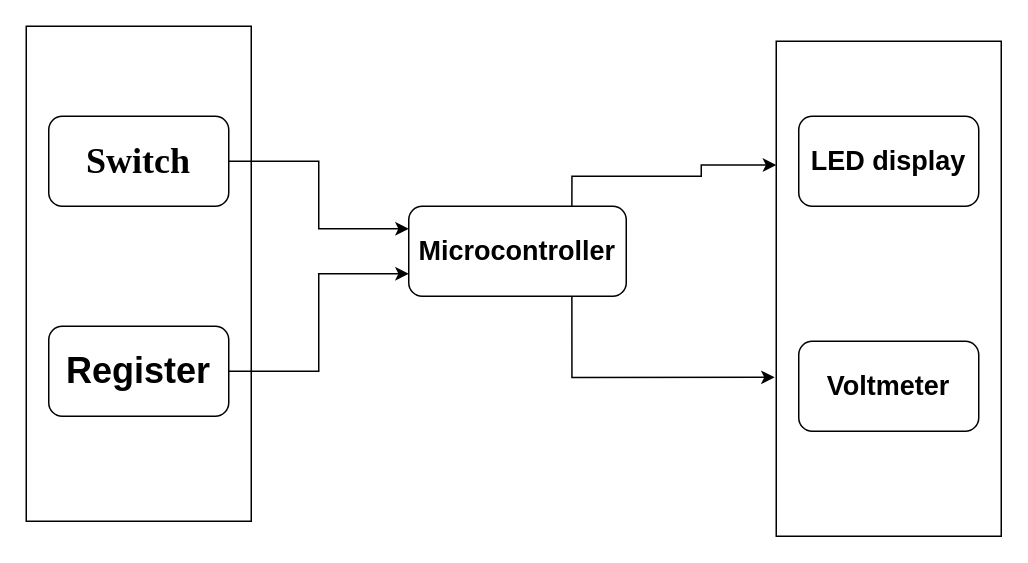
Image size: 1028x563. Some labels were removed from this diagram. Each missing label, with the box of its shape:
Input: (25, 25, 251, 521)
output: (775, 40, 1001, 536)
